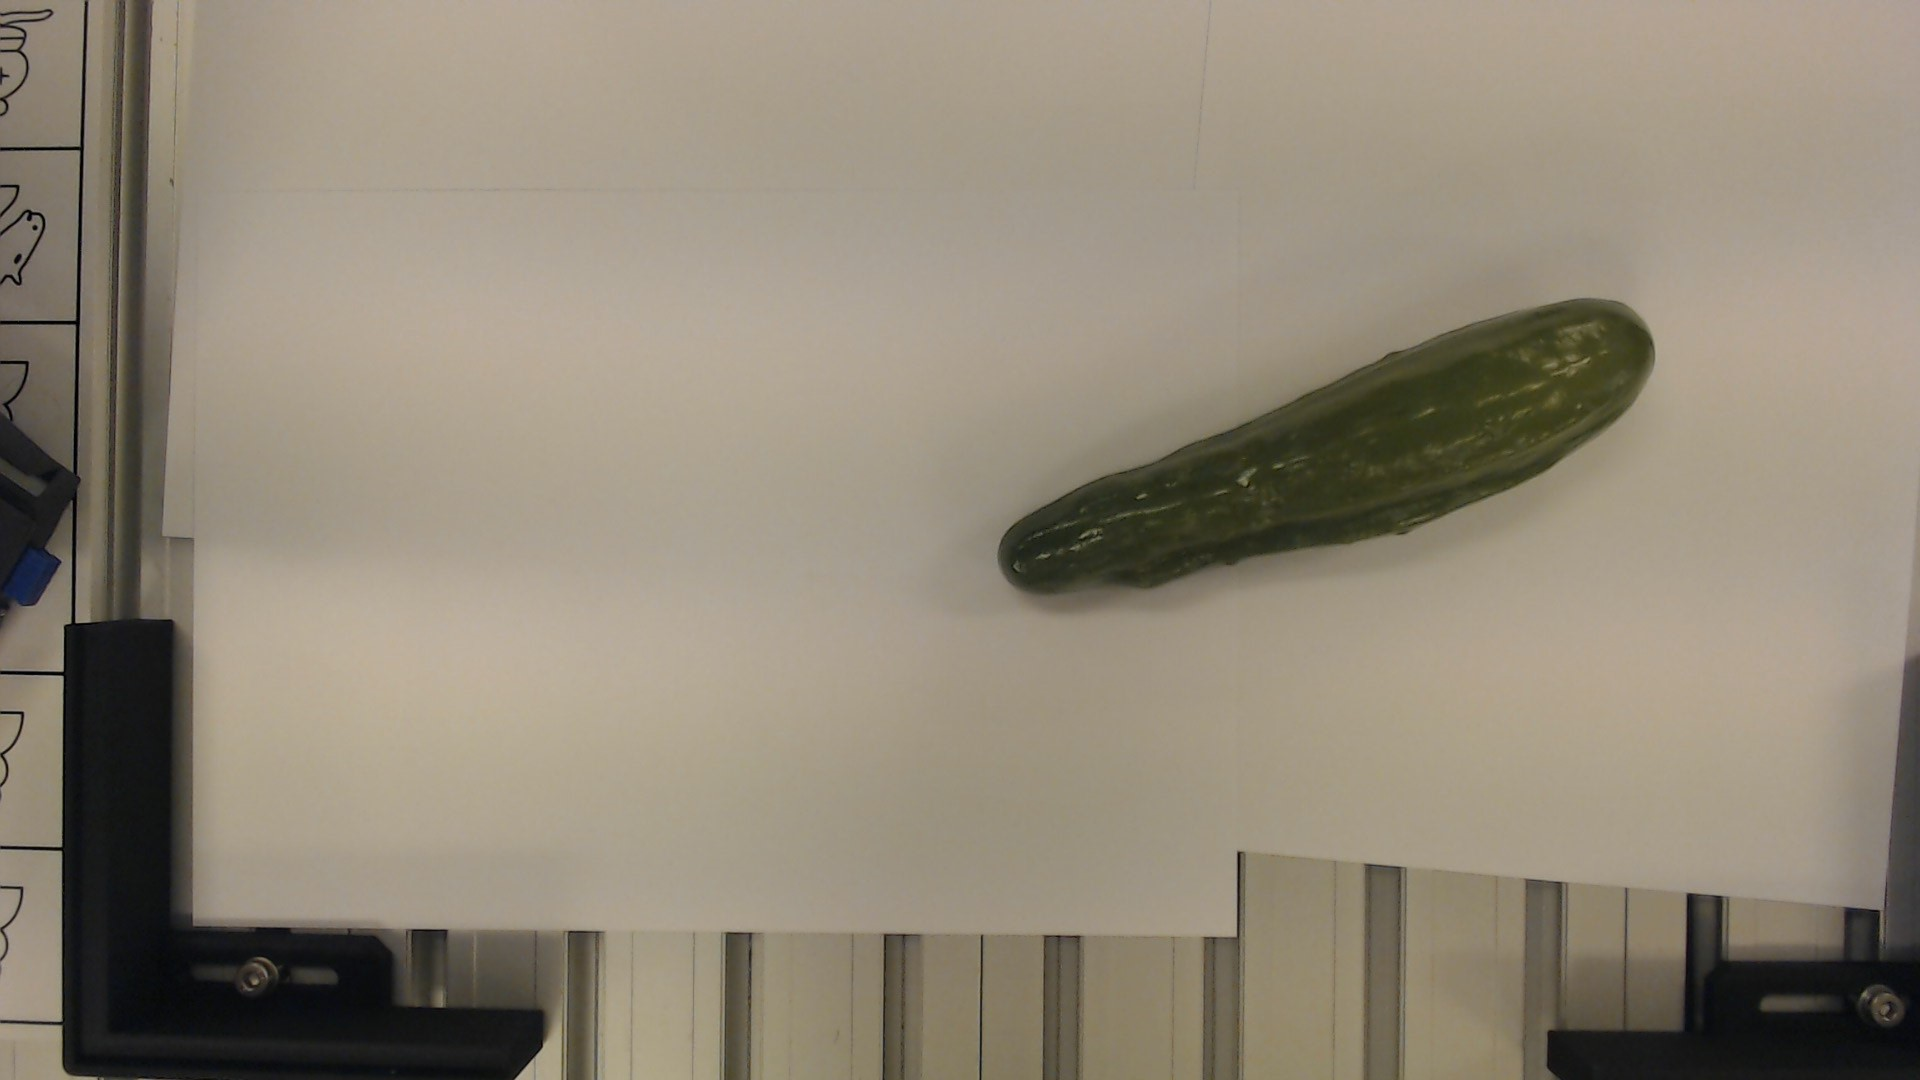Cucumber: (994, 282, 1665, 603)
